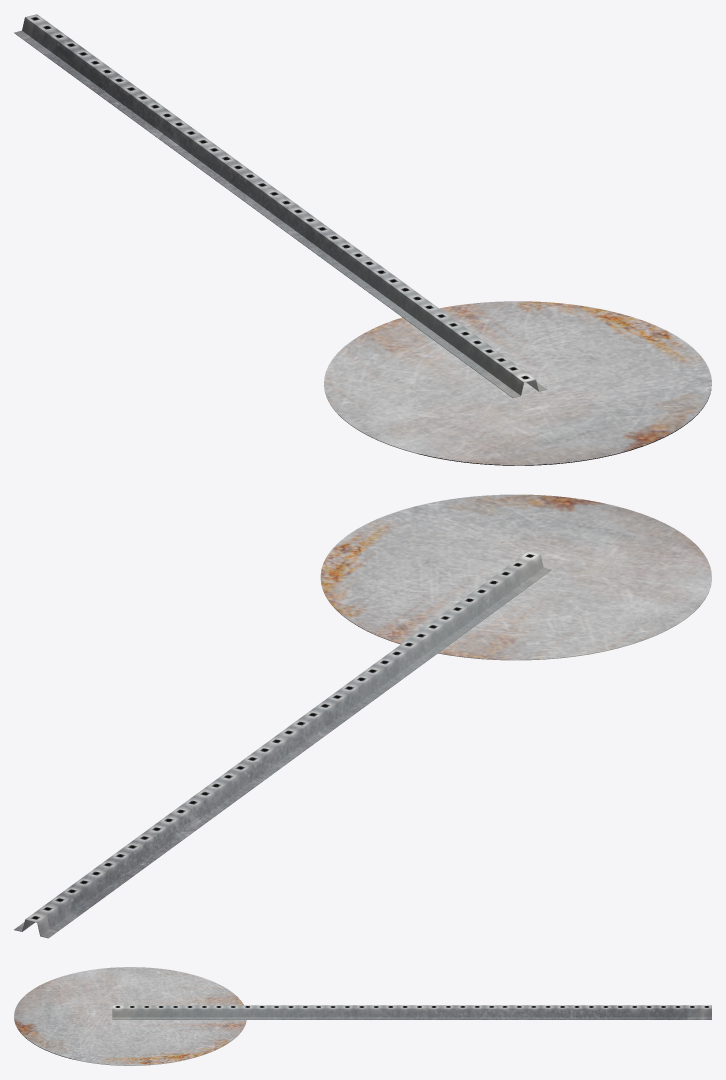
Rendered from train_sign.dae.
3 renders of one model, top to bottom at view 1: azimuth 30°, elevation 25°; view 2: azimuth 150°, elevation 25°; view 3: azimuth 270°, elevation 25°, orthographic. The views are drawn at different scales.
Visible parts, largest first — view 1: Circle001, Box003; view 2: Circle001, Box003; view 3: Circle001, Box003.
Boxes of the visible parts, left/top/right/bottom form: Circle001: left=324, top=301, right=711, bottom=465; Box003: left=14, top=14, right=547, bottom=397; Circle001: left=320, top=494, right=711, bottom=660; Box003: left=14, top=551, right=551, bottom=938; Circle001: left=14, top=967, right=246, bottom=1065; Box003: left=112, top=1005, right=711, bottom=1019.
Bounding box in the file's own units: 609 × 25.37 × 1824.
1 material, 1 textured.
